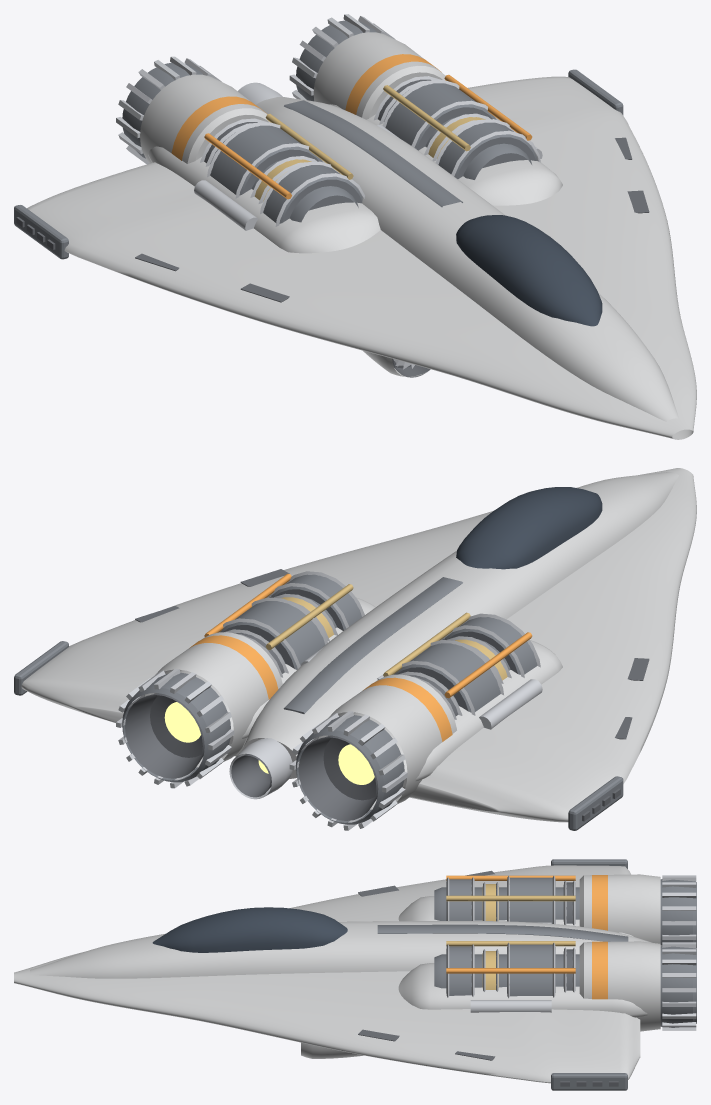
File: vanguard.glb
3 renders of one model, top to bottom at view 1: azimuth 30°, elevation 25°; view 2: azimuth 150°, elevation 25°; view 3: azimuth 270°, elevation 25°, orthographic. The views are drawn at different scales.
Visible parts, largest first — view 1: body, spine, can, nacelle, canopy, stage.002, stage, spine_strip, nozzle, can_band, tip_cap, eng_core (+9 smaller); view 2: body, spine, can, liner, canopy, stage.002, nozzle, nacelle, spine_strip, stage, can_band, hot (+14 smaller); view 3: body, spine, can, canopy, nacelle, stage.002, nozzle, eng_core, spine_strip, stage, can_band, tip_cap (+7 smaller).
Part boxes in pixels (box(x1,y1,x2,y2)): body: box(27, 76, 696, 439); spine: box(256, 97, 678, 421); can: box(140, 32, 445, 163); nacelle: box(148, 104, 562, 253); canopy: box(456, 215, 602, 326); stage.002: box(210, 83, 495, 195); stage: box(263, 122, 537, 223); spine_strip: box(284, 100, 462, 207); nozzle: box(122, 20, 376, 158); can_band: box(171, 54, 441, 160); tip_cap: box(14, 69, 623, 259); eng_core: box(252, 116, 531, 222); body: box(21, 468, 696, 822); spine: box(242, 472, 678, 778); can: box(144, 632, 456, 809); liner: box(125, 693, 378, 820); canopy: box(456, 487, 602, 569); stage.002: box(219, 601, 500, 712); nozzle: box(122, 672, 404, 824); nacelle: box(154, 597, 562, 787); spine_strip: box(283, 577, 462, 713); stage: box(270, 574, 537, 674); can_band: box(190, 635, 452, 741); hot: box(164, 702, 374, 784); body: box(14, 865, 640, 1083); spine: box(30, 921, 661, 978); can: box(579, 874, 660, 1031); canopy: box(152, 907, 347, 952); nacelle: box(398, 896, 647, 1017); stage.002: box(507, 877, 555, 996); nozzle: box(660, 879, 696, 1027); eng_core: box(434, 887, 579, 988); spine_strip: box(377, 924, 628, 941); stage: box(446, 879, 471, 995); can_band: box(592, 875, 607, 999); tip_cap: box(551, 859, 627, 1090).
Size of the model in its own units: 6.41 by 1.53 by 8.45.
